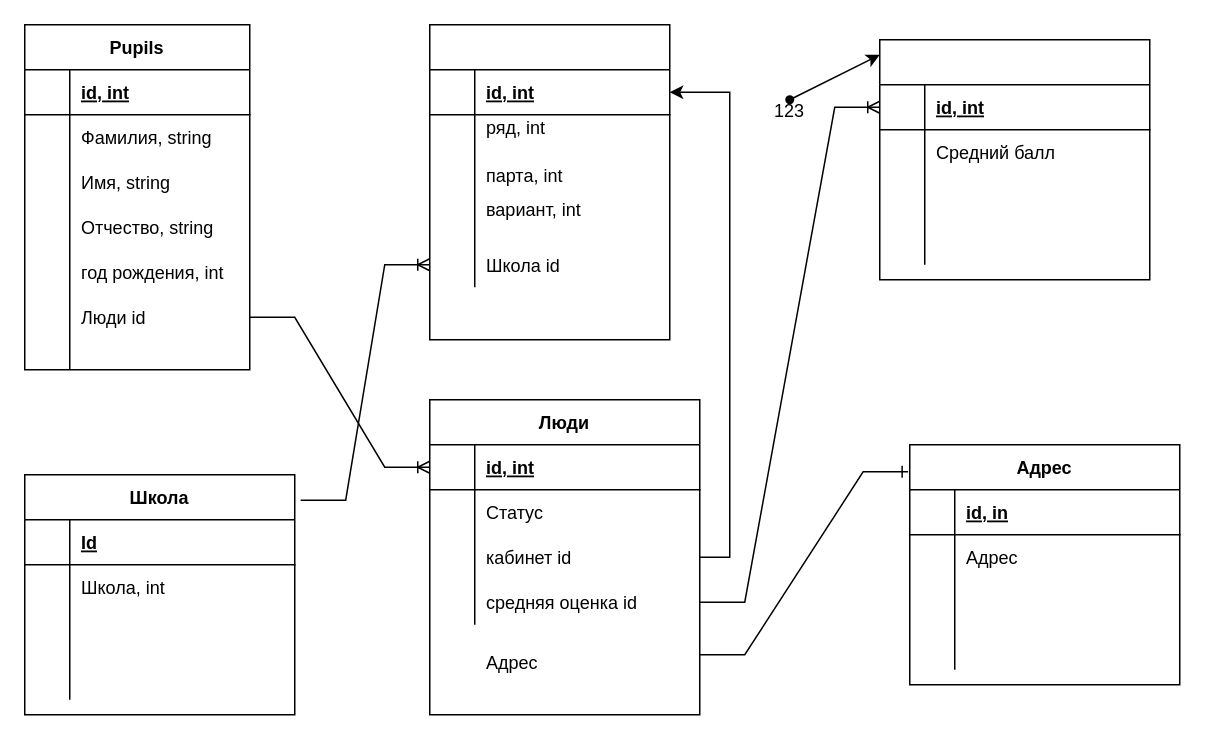
Some shapes in this 1205 by 740 pixel diagram are drawn without their labels. The shapes that lost their labels are listed below. From the top down, each one's box as (x1, y1, x2, y2) in pixels, then its label:
(878, 38, 1150, 280): Оценки
(428, 23, 670, 340): Кабинет
